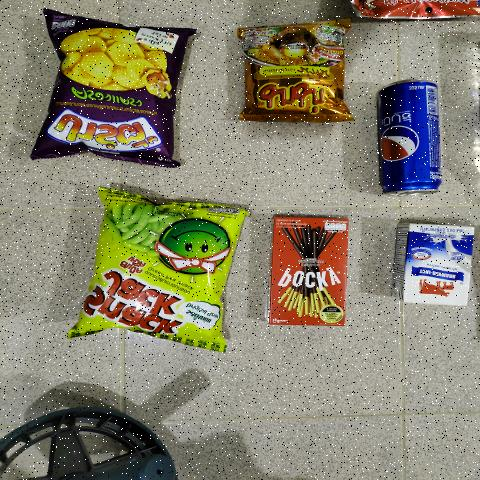mama: (244, 29, 346, 119)
party_purple: (46, 12, 174, 161)
pepsi_blue: (374, 78, 448, 198)
pokki: (273, 217, 343, 327)
snack_jack: (94, 189, 236, 343)
thai_denmark: (396, 219, 472, 305)
